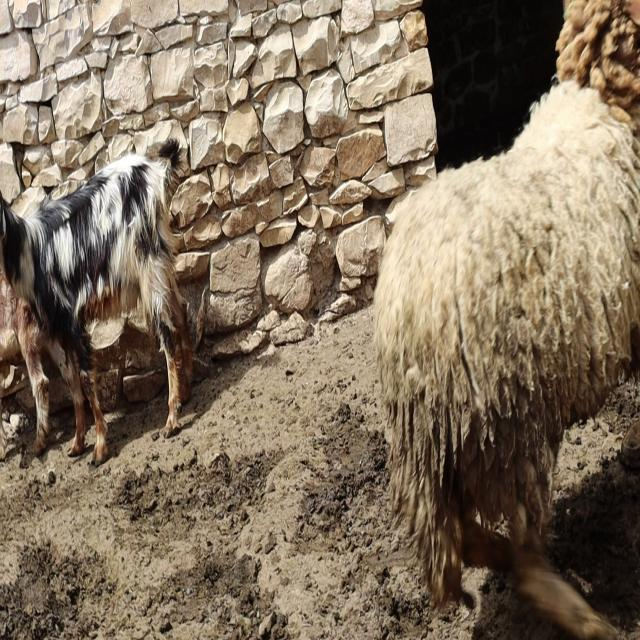Score_2: (374, 0, 640, 639)
